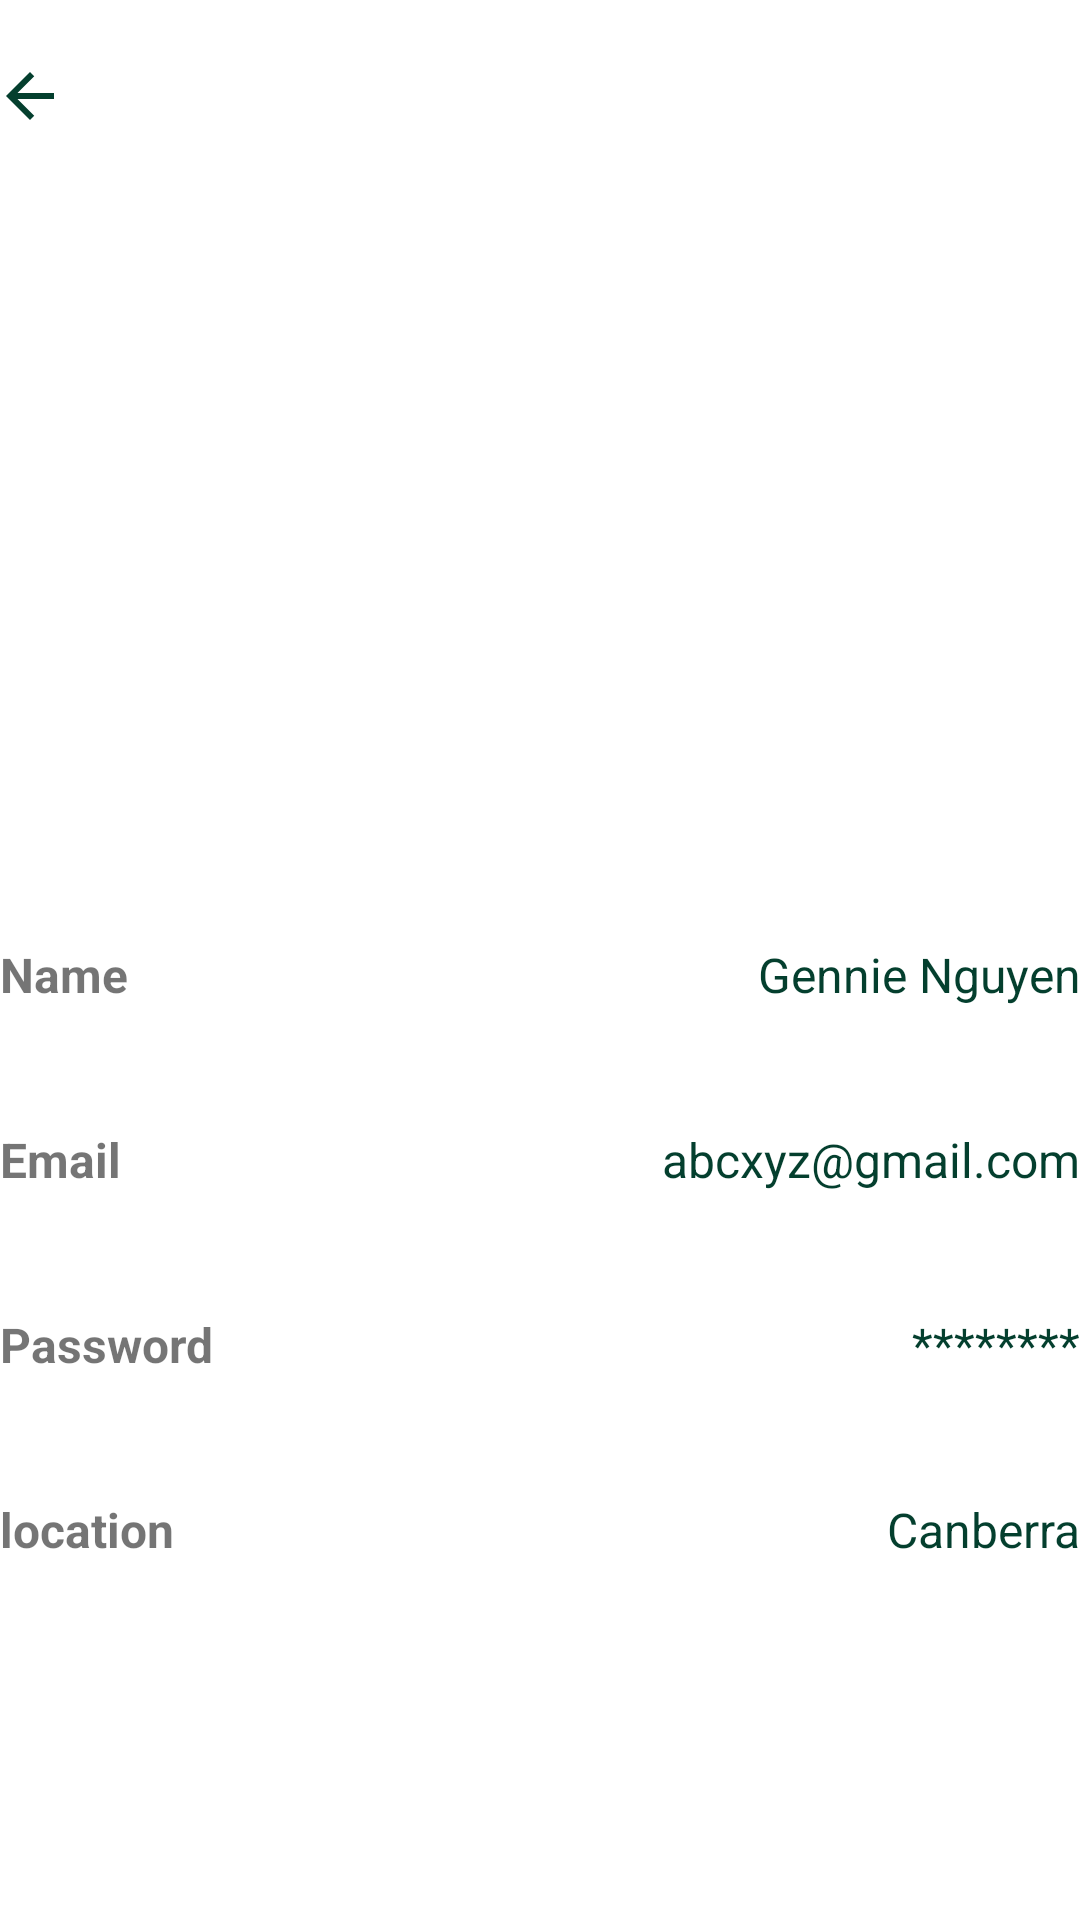

Screen size 1080 x 1920. Icon name, then its center in pixels as [x,y]:
arrow back: [30,96]
